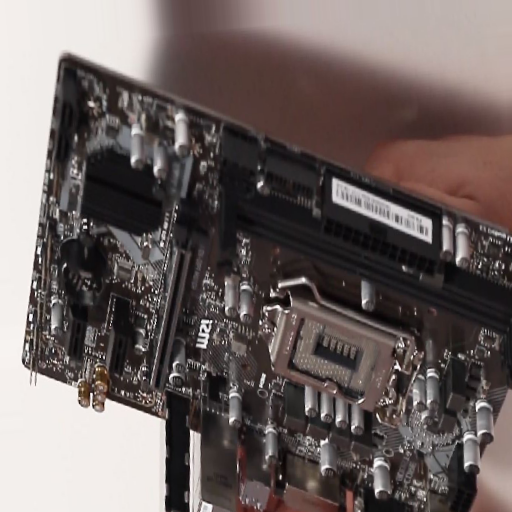CPU: (257, 292, 414, 416)
GPU: (149, 197, 208, 391)
MOTHERBOARD: (23, 52, 512, 511)
RAM: (221, 178, 512, 339)
